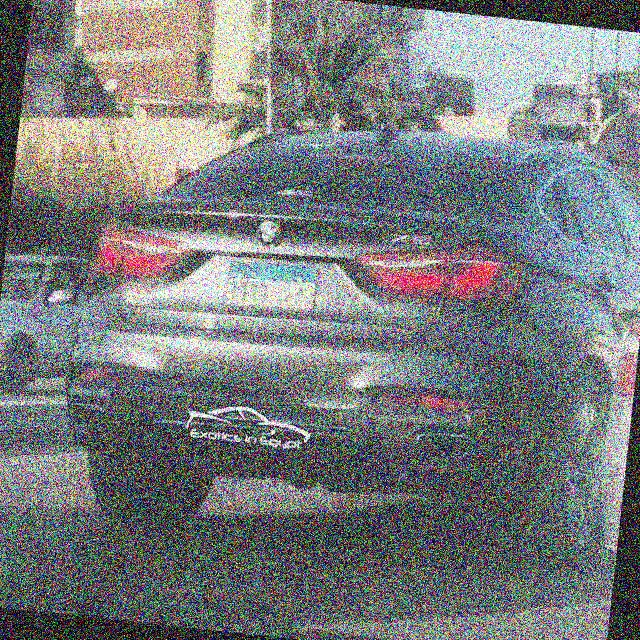License Plate: (218, 252, 322, 322)
